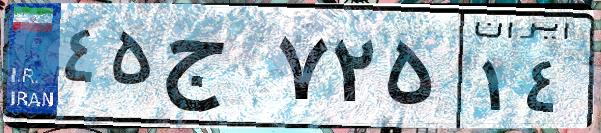1: (475, 38, 525, 113)
2: (330, 28, 385, 110)
4: (57, 26, 110, 100), (525, 38, 570, 115)
5: (385, 28, 445, 110), (110, 28, 158, 98)
7: (270, 28, 330, 110)
ج: (158, 20, 270, 120)
